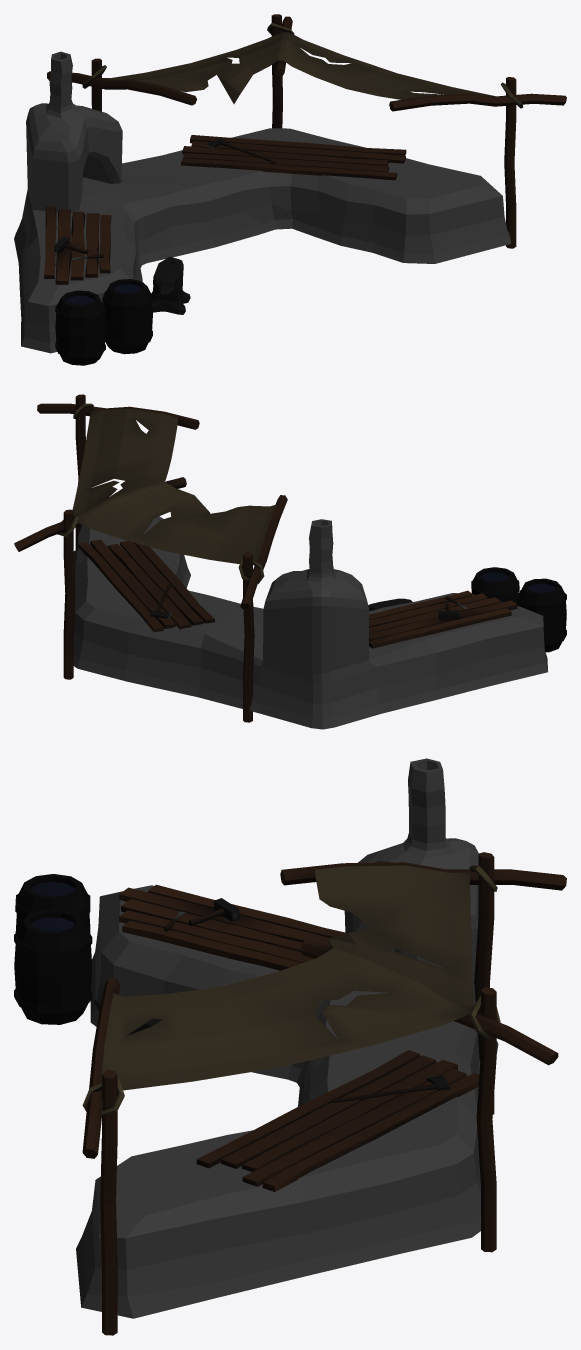
The model's file is CraftingStation_V1_Stone.fbx.
3 views of the same model, one above another, from view 1: azimuth 30°, elevation 25°; view 2: azimuth 150°, elevation 25°; view 3: azimuth 270°, elevation 25° (orthographic). The views are drawn at different scales.
Visible parts, largest first — view 1: Crafting_Station_Stone, Crafting_Station_Overhead; view 2: Crafting_Station_Stone, Crafting_Station_Overhead; view 3: Crafting_Station_Stone, Crafting_Station_Overhead.
Part boxes in pixels (x1,y1,x2,y2): Crafting_Station_Stone: (14,14,566,365); Crafting_Station_Overhead: (100,31,494,103); Crafting_Station_Stone: (14,394,566,729); Crafting_Station_Overhead: (72,408,276,564); Crafting_Station_Stone: (14,758,566,1335); Crafting_Station_Overhead: (101,865,473,1090).
Bounding box in the file's own units: 189 × 67.83 × 111.
